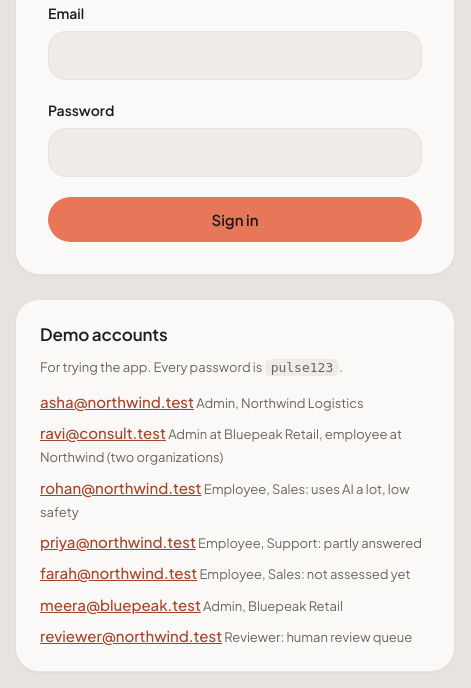
it: Login › shows the demo accounts in a production build when VITE_SHOW_DEMO_ACCOUNTS is true
The width and height of the screenshot is (471, 688).
(page scrolled)
Expected: the heading "Demo accounts" is shown, [40,323,168,345]
Expected: the text "Reviewer: human review queue" is shown, [222,629,412,645]
# Clicking an account fills in the form.
Step 1. Click the button "reviewer@northwind.test" → (131, 636), box [40,624,222,647]
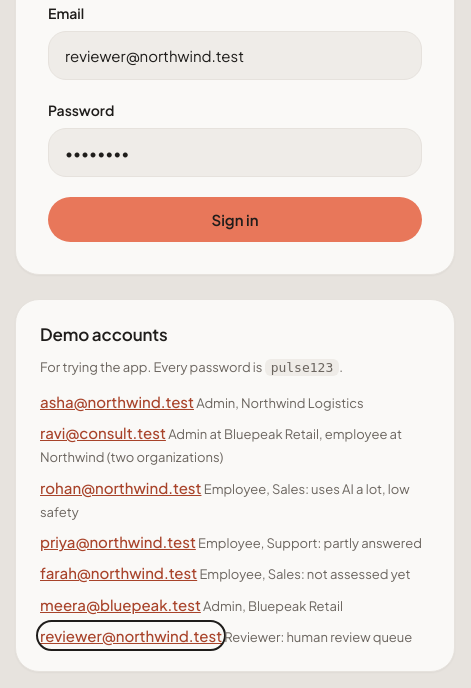
Expected: the field labelled "Email" holds "reviewer@northwind.test", [48,31,422,80]
Expected: the password field labelled "Password" holds "pulse123", [48,128,422,177]
